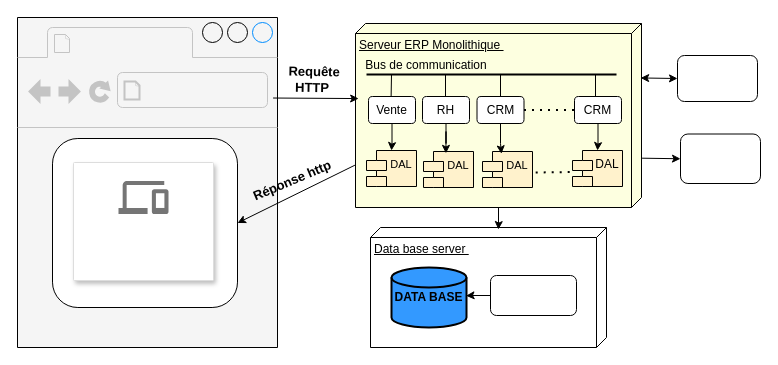
Image size: 778x365. Some labels were removed from this diagram. Here are the shapes that lost their labels. From the top down, the centre of each, then its label:
At (x=132, y=42): "Page 1".
At (x=222, y=90): "http://localhost:8069/".
At (x=717, y=78): "Pack office".
At (x=720, y=158): "Outils de reporting".
At (x=144, y=223): "Desktop and Mobile".
At (x=533, y=295): "DBMS".
